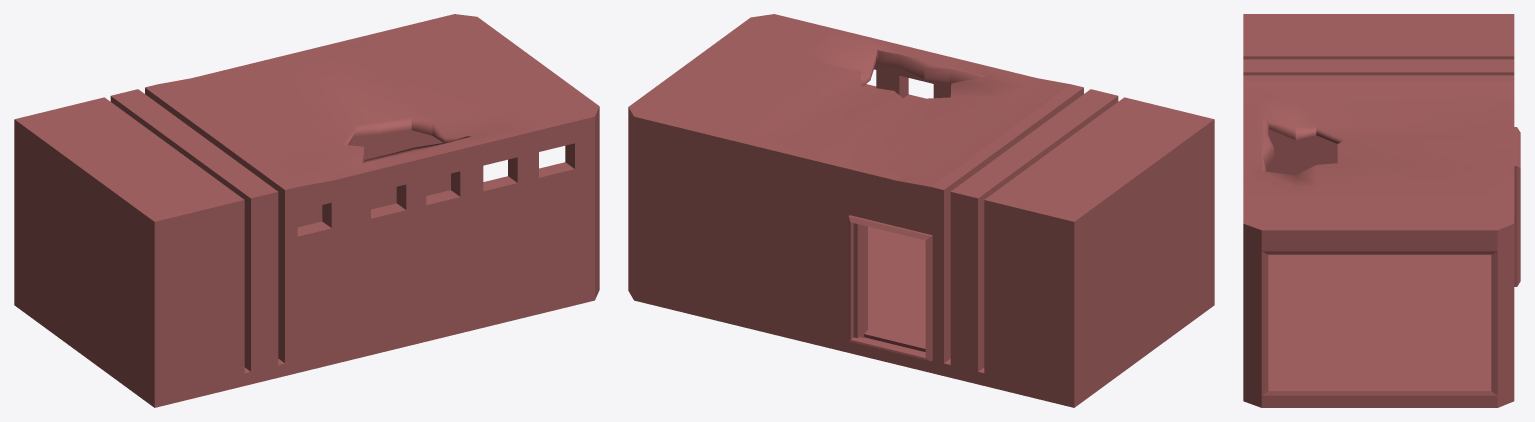
The model's file is Container_1.fbx.
3 renders of one model, left to right at view 1: azimuth 30°, elevation 25°; view 2: azimuth 150°, elevation 25°; view 3: azimuth 270°, elevation 25°, orthographic. The views are drawn at different scales.
Parts seen in each view (by area): view 1: polySurface1; view 2: polySurface1, pasted__pCube69, pasted__pCube74; view 3: polySurface1, pasted__pCube69.
Part boxes in pixels (left/top/right/bottom): polySurface1: left=14, top=14, right=599, bottom=407; polySurface1: left=628, top=14, right=1214, bottom=407; pasted__pCube69: left=848, top=215, right=932, bottom=361; pasted__pCube74: left=864, top=226, right=925, bottom=351; polySurface1: left=1243, top=14, right=1514, bottom=407; pasted__pCube69: left=1514, top=127, right=1520, bottom=286.
Size of the model in its own units: 9.51 by 3.72 by 5.2.
